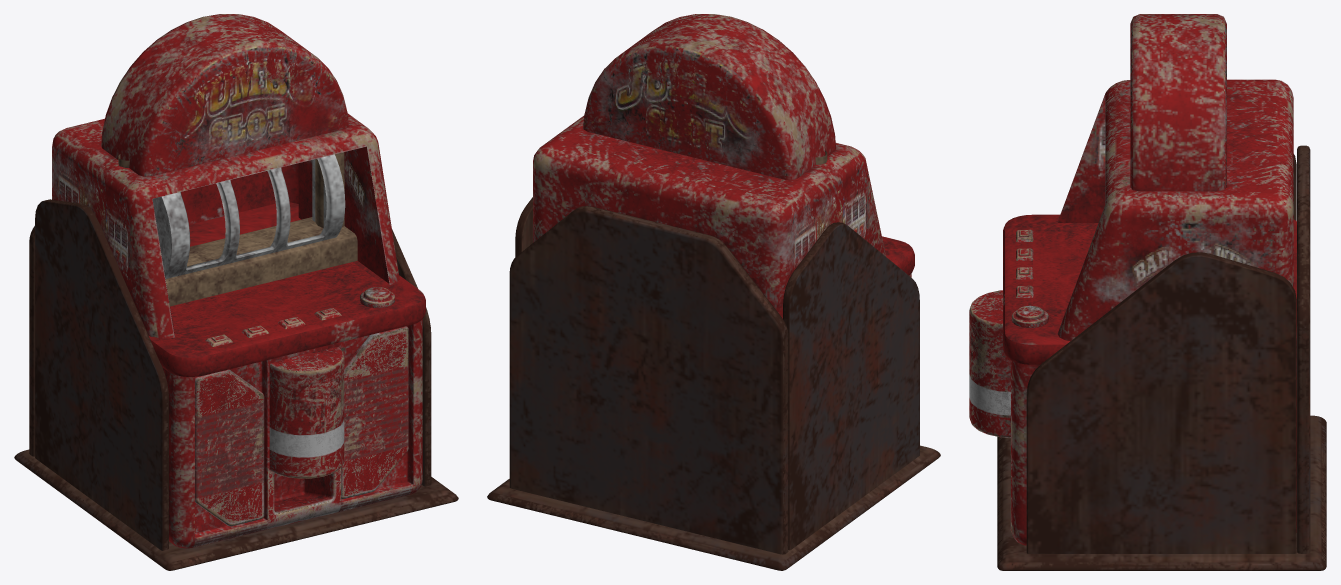
Rendered from SloteMachine3.fbx.
The picture shows the model from 3 angles, left to right: view 1: azimuth 30°, elevation 25°; view 2: azimuth 150°, elevation 25°; view 3: azimuth 270°, elevation 25°; orthographic projection. The views are drawn at different scales.
Parts seen in each view (by area): view 1: Slot_Machine; view 2: Slot_Machine; view 3: Slot_Machine.
Boxes of the visible parts, x1,y1,x2,y2 form: Slot_Machine: (14, 14, 458, 570); Slot_Machine: (487, 14, 940, 570); Slot_Machine: (969, 14, 1326, 570).
Bounding box in the file's own units: 6728 × 9799 × 6738.
